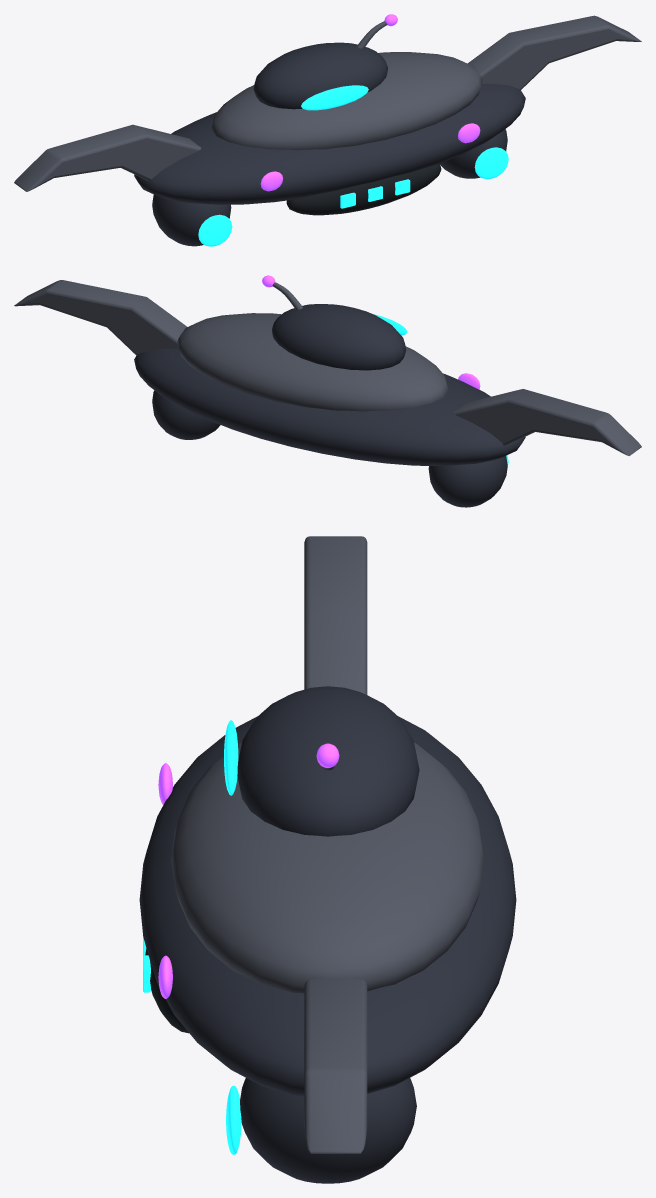
The model's file is alien_mothership.glb.
3 renders of one model, top to bottom at view 1: azimuth 30°, elevation 25°; view 2: azimuth 150°, elevation 25°; view 3: azimuth 270°, elevation 25°, orthographic. The views are drawn at different scales.
Parts seen in each view (by area): view 1: AlienControlDeviceGeometry; view 2: AlienControlDeviceGeometry; view 3: AlienControlDeviceGeometry.
Part boxes in pixels (box(x1,y1,x2,y2)): AlienControlDeviceGeometry: box(14, 14, 641, 246); AlienControlDeviceGeometry: box(14, 275, 641, 507); AlienControlDeviceGeometry: box(139, 536, 516, 1183).
Size of the model in its own units: 5.43 by 1.51 by 1.44.
